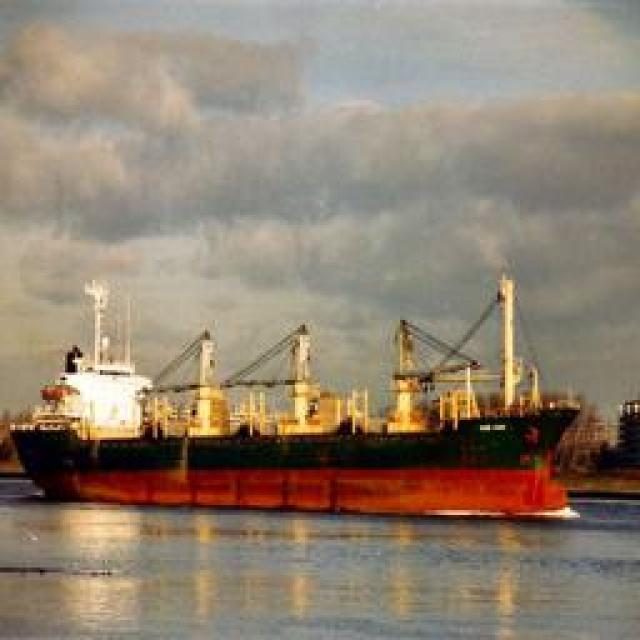ship2: (7, 272, 582, 524)
